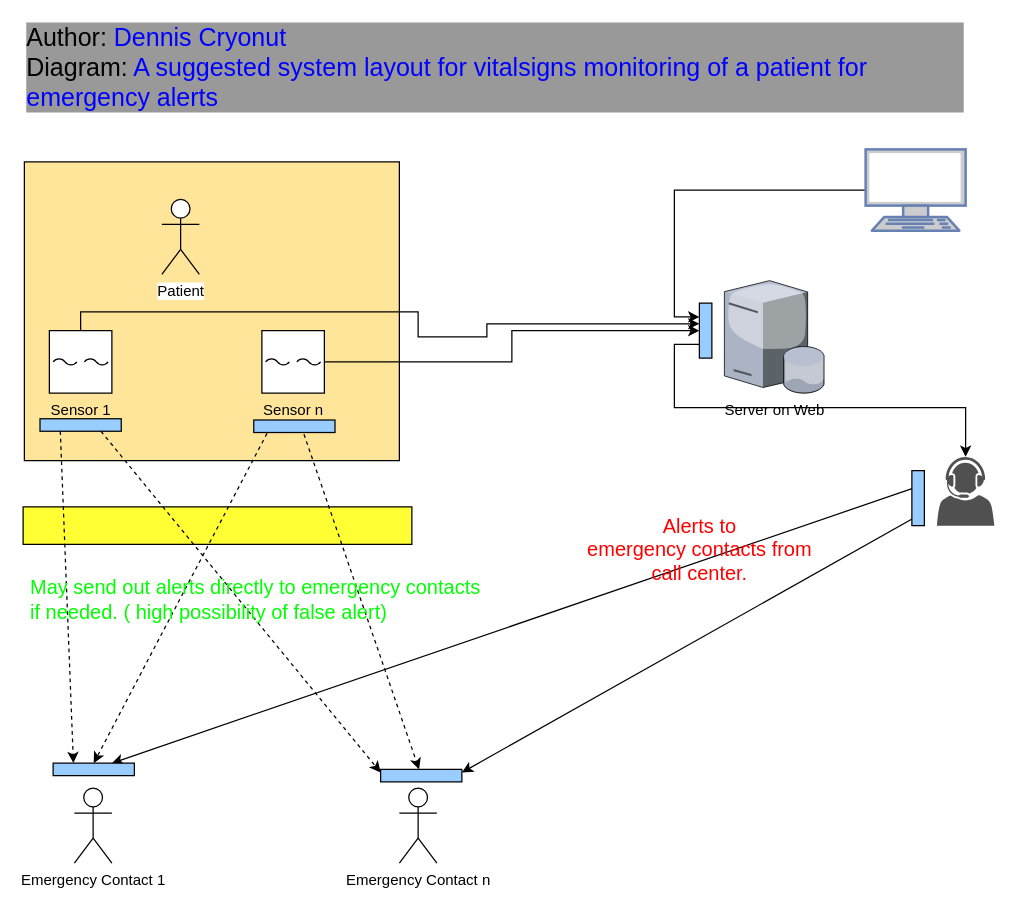
Image size: 1025x910. Some labels were removed from this diagram. Each missing label, with the centre of its shape:
"Call Center" goes at (x=965, y=490).
"Smart Phone, mesh network etc. via 2G-5G, Wifi, etc." goes at (x=217, y=525).
"Web UI for Settings" goes at (x=915, y=189).
